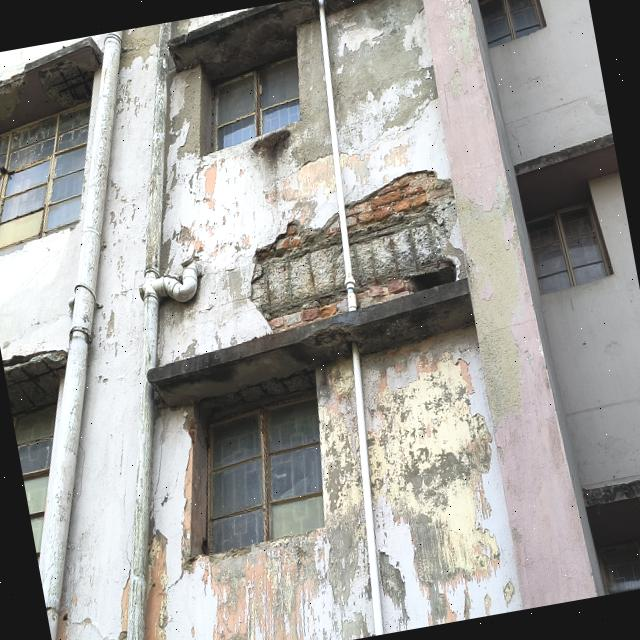peeling: (362, 327, 521, 633), (183, 528, 352, 640), (328, 0, 441, 160), (164, 66, 212, 215), (289, 27, 330, 169), (160, 225, 206, 268), (129, 24, 159, 59)
spalling: (346, 170, 456, 307), (0, 35, 102, 134), (251, 214, 345, 321)
